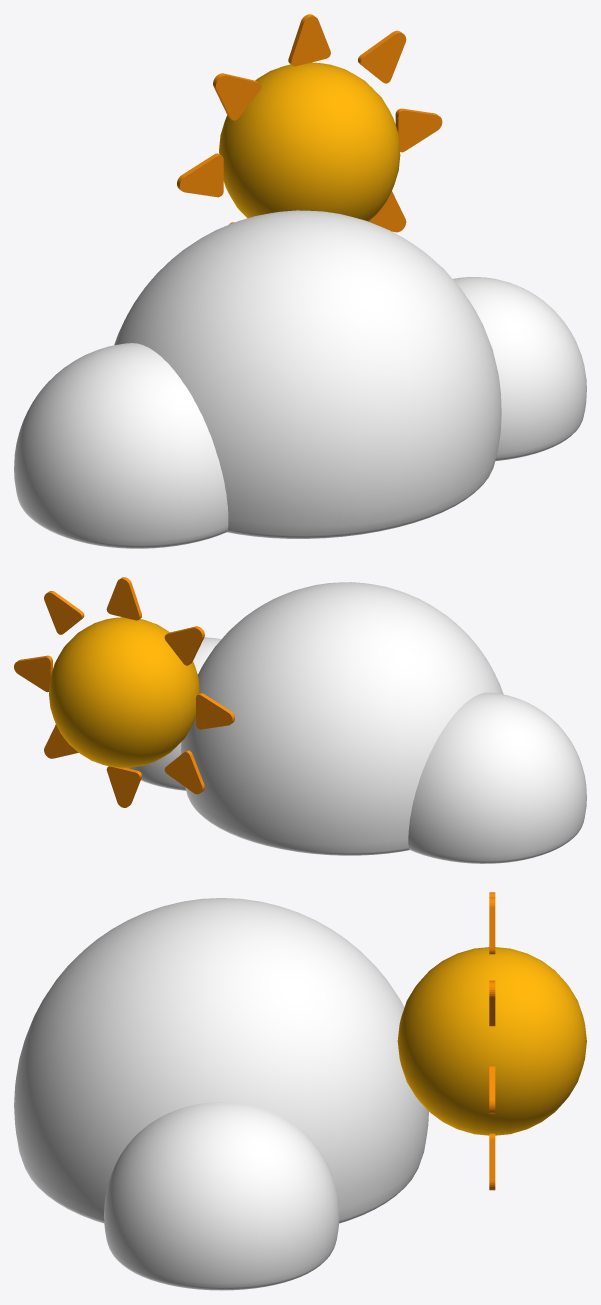
The model's file is sun_behind_large_cloud.gltf.
3 views of the same model, one above another, from view 1: azimuth 30°, elevation 25°; view 2: azimuth 150°, elevation 25°; view 3: azimuth 270°, elevation 25° (orthographic). The views are drawn at different scales.
Parts seen in each view (by area): view 1: Cube.204; view 2: Cube.204; view 3: Cube.204.
Boxes of the visible parts, <box> form: Cube.204: <box>14,14,586,548</box>; Cube.204: <box>14,577,586,863</box>; Cube.204: <box>14,892,586,1290</box>.
Size of the model in its own units: 2.06 by 1.15 by 1.81.
1 material, 1 textured.
